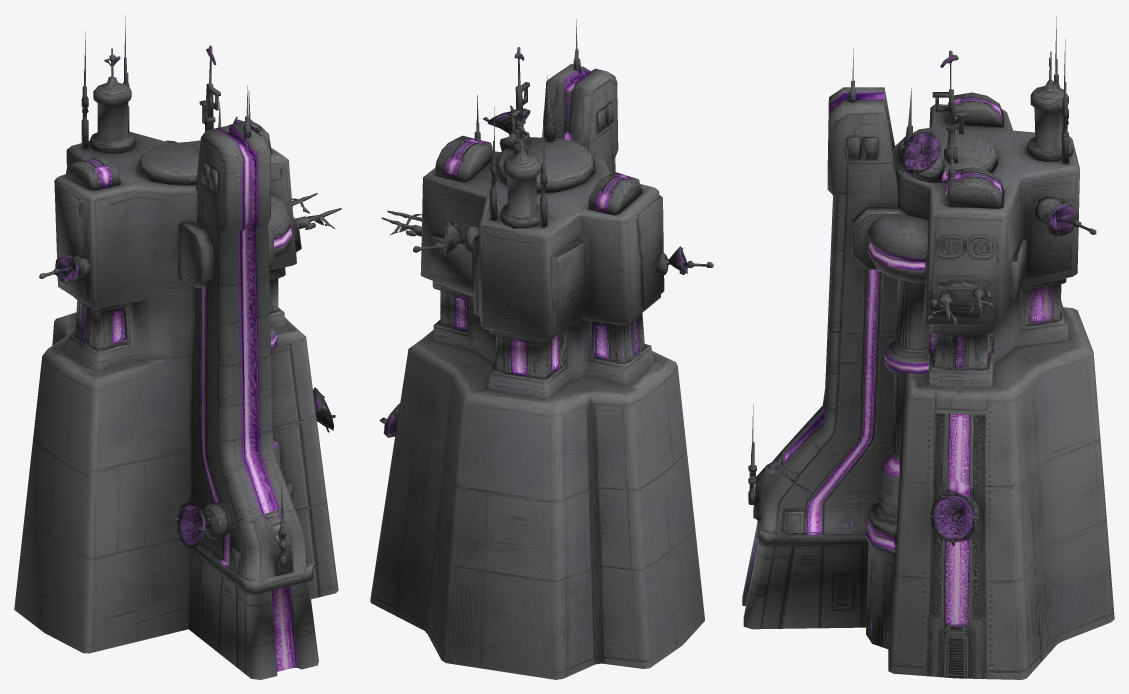
The model's file is 019e373a-d136-7606-a47d-2b9ad7cabb06.glb.
3 renders of one model, left to right at view 1: azimuth 30°, elevation 25°; view 2: azimuth 150°, elevation 25°; view 3: azimuth 270°, elevation 25°, orthographic. The views are drawn at different scales.
Parts seen in each view (by area): view 1: tripo_node_3c69eb74-ca6a-442e-a2eb-34915c010a5c; view 2: tripo_node_3c69eb74-ca6a-442e-a2eb-34915c010a5c; view 3: tripo_node_3c69eb74-ca6a-442e-a2eb-34915c010a5c.
Part boxes in pixels (x1,y1,x2,y2): tripo_node_3c69eb74-ca6a-442e-a2eb-34915c010a5c: (14, 15, 341, 679); tripo_node_3c69eb74-ca6a-442e-a2eb-34915c010a5c: (370, 19, 713, 679); tripo_node_3c69eb74-ca6a-442e-a2eb-34915c010a5c: (742, 17, 1114, 679).
Bounding box in the file's own units: 0.5918 × 0.998 × 0.5879.
1 material, 1 textured.
